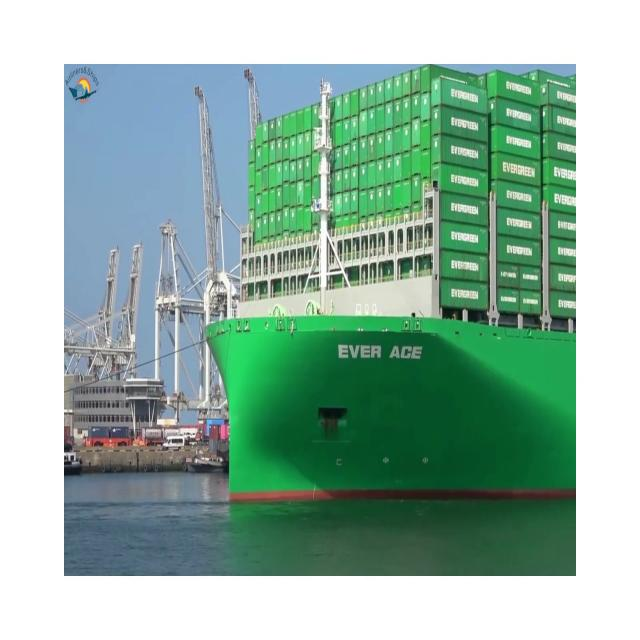OCR: (334, 331, 426, 373)
